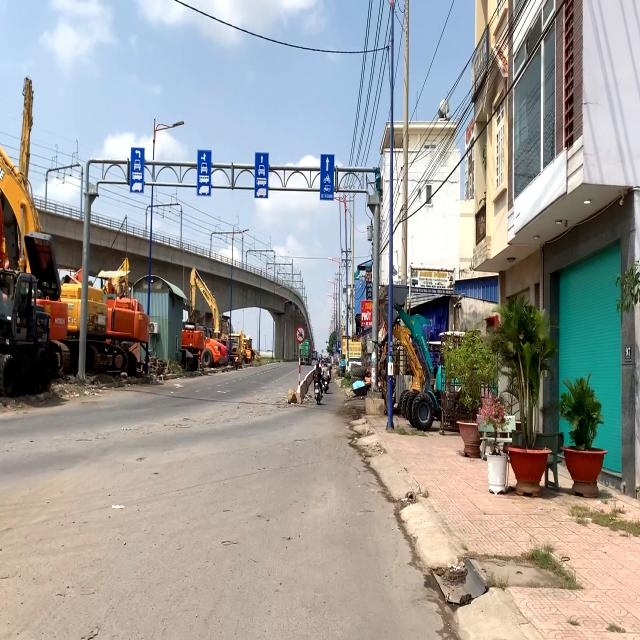P.104: (295, 324, 306, 344)
